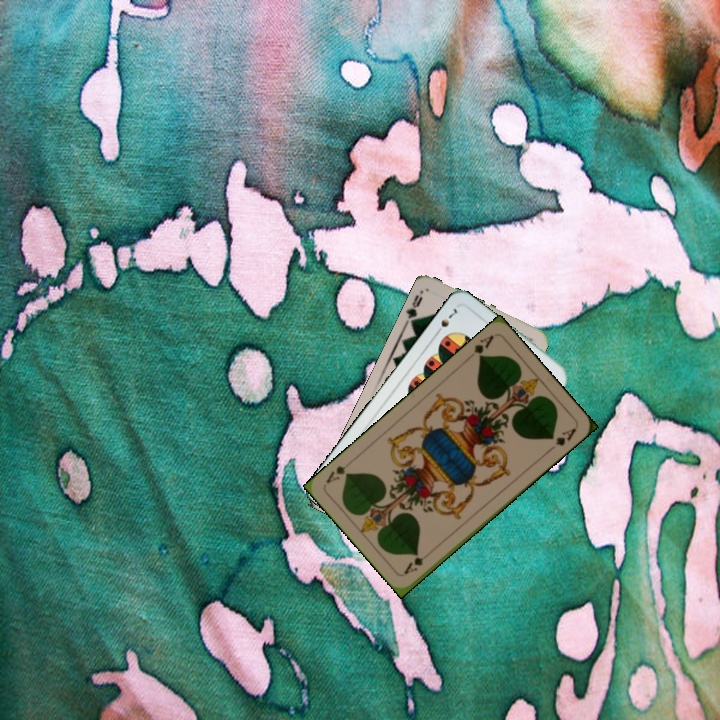G9: (401, 291, 425, 328)
GA: (400, 548, 434, 577), (469, 331, 497, 362)
S7: (431, 304, 460, 338)
